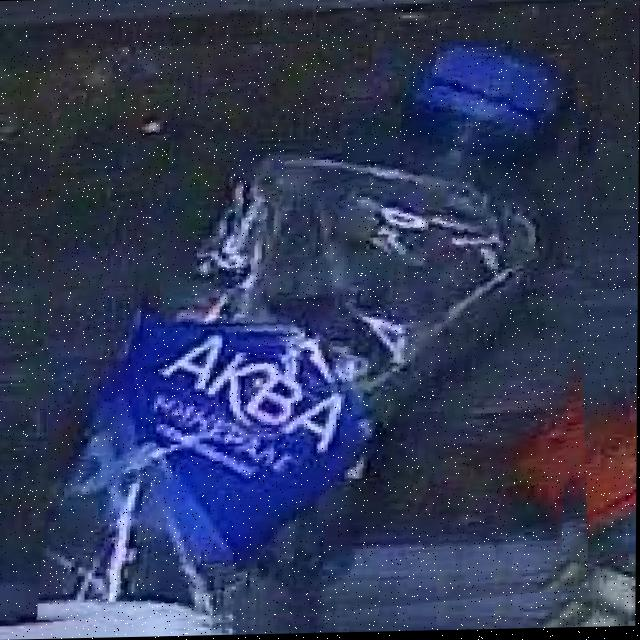plasticbottle: (47, 39, 593, 639)
